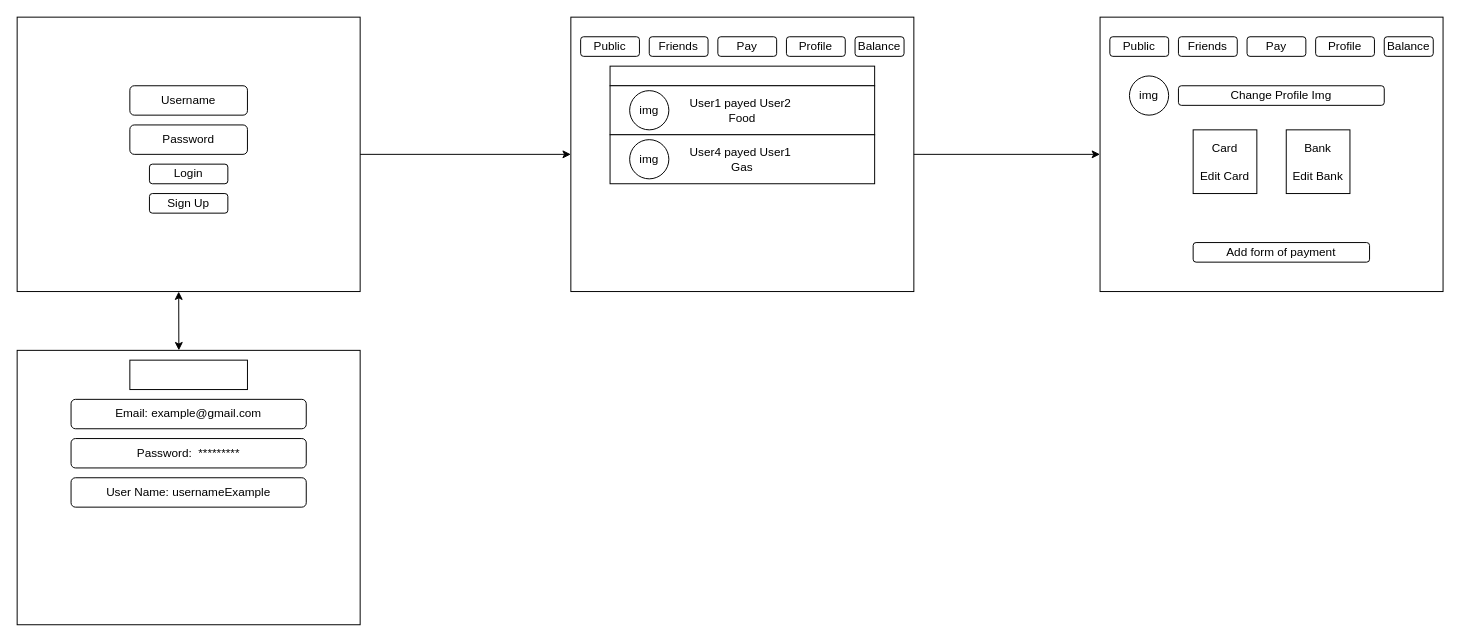
Image size: 1460x642. Some labels were removed from this diagram. Each missing label, with the centre of its shape:
Registration Page: (x=188, y=374)
Transactions: (x=742, y=75)
